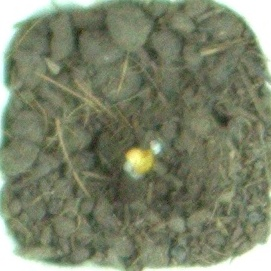pepper seed: (47, 59, 203, 235)
